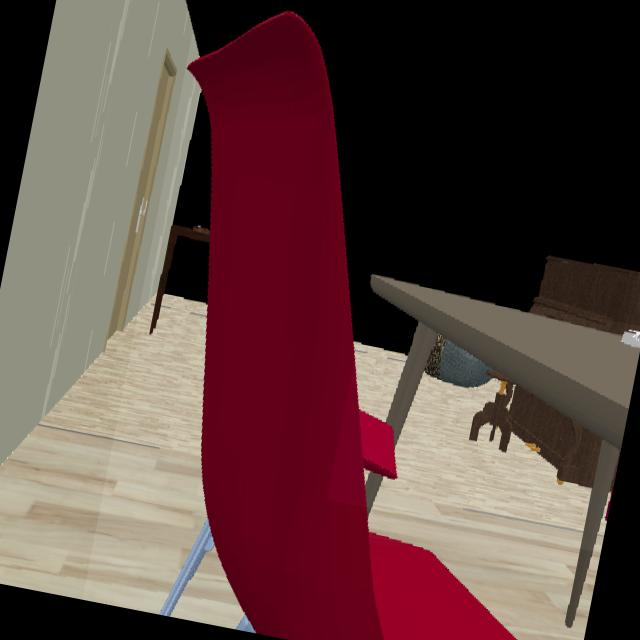chair: (185, 12, 519, 640)
table: (369, 275, 640, 551)
